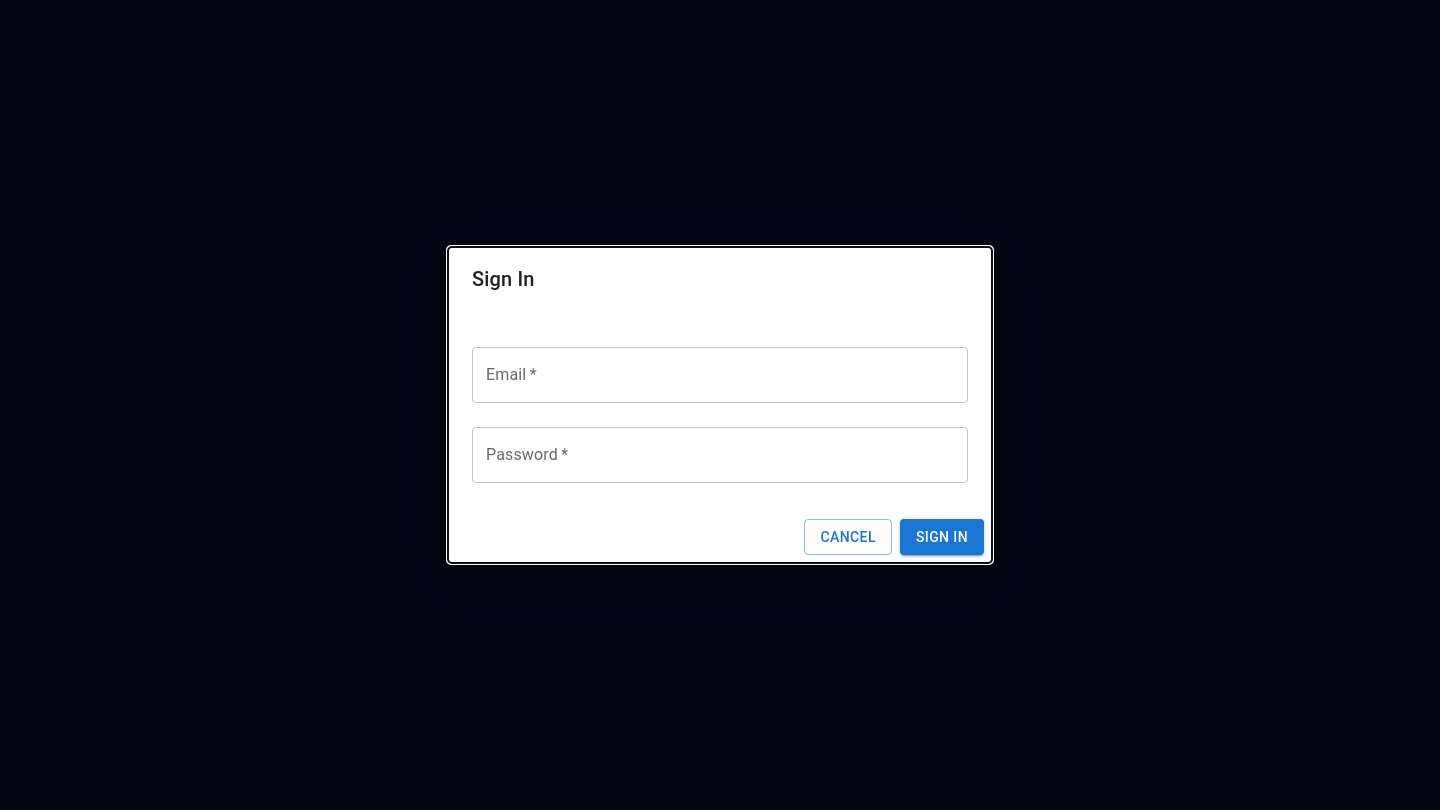
SignInModal › shows error for invalid credentials
In the field labelled "Email *": (720, 375) [472,347,968,403], type "wrong@email.com"
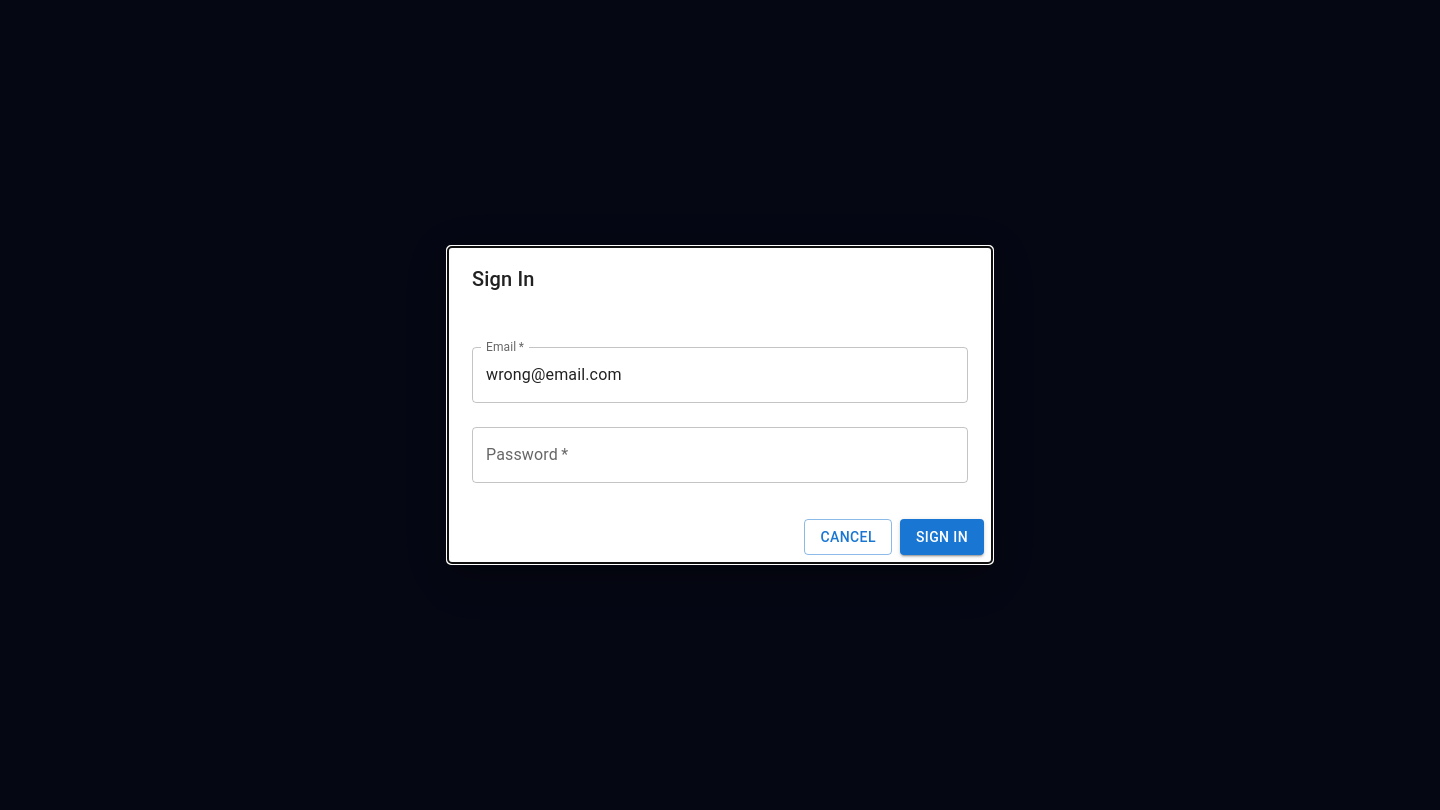
In the password field labelled "Password *": (720, 455) [472,427,968,483], type "wrongpass"
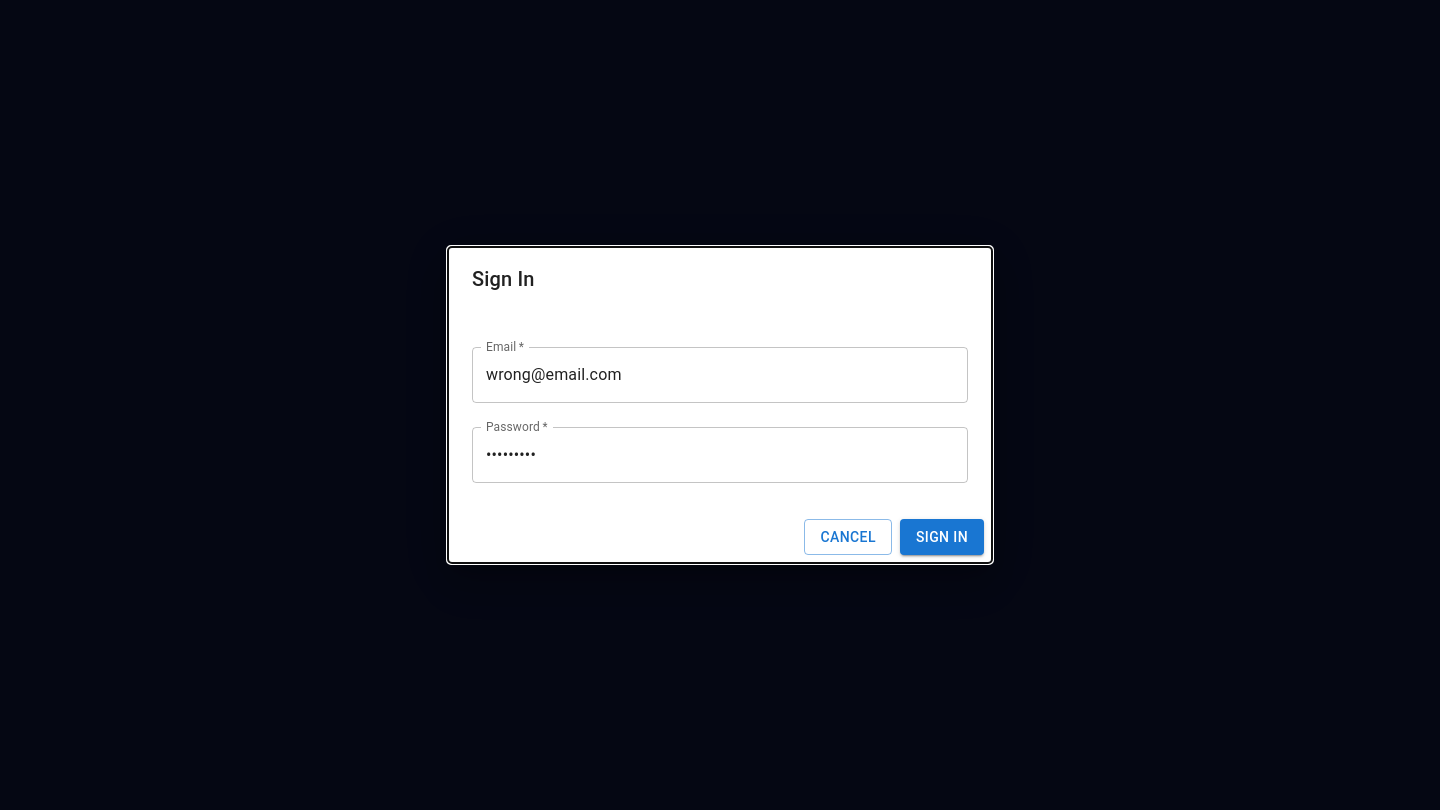
Click the button "Sign In": (942, 537) [900,519,984,555]
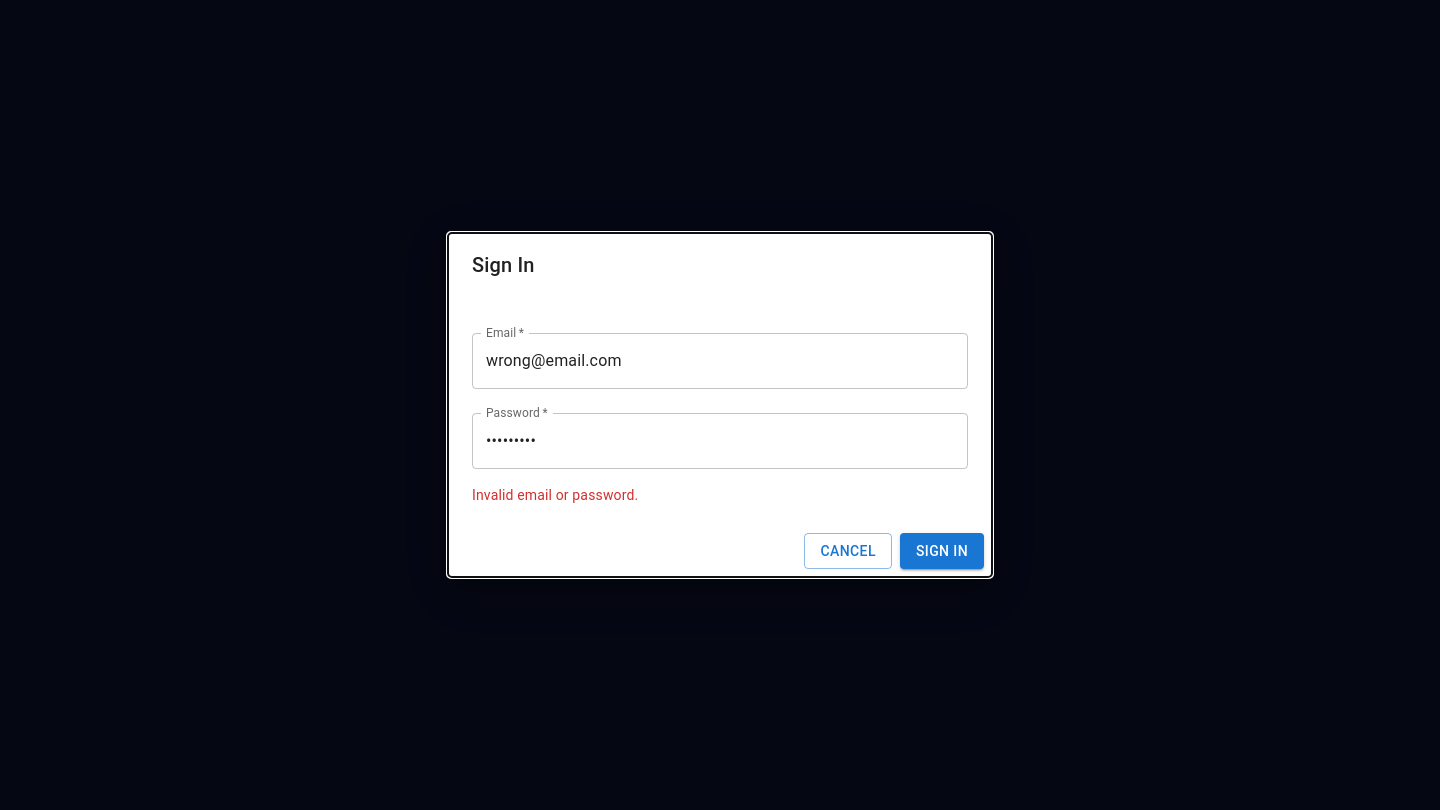
Now the text "Invalid email or password." is shown, box [472,487,638,503]
